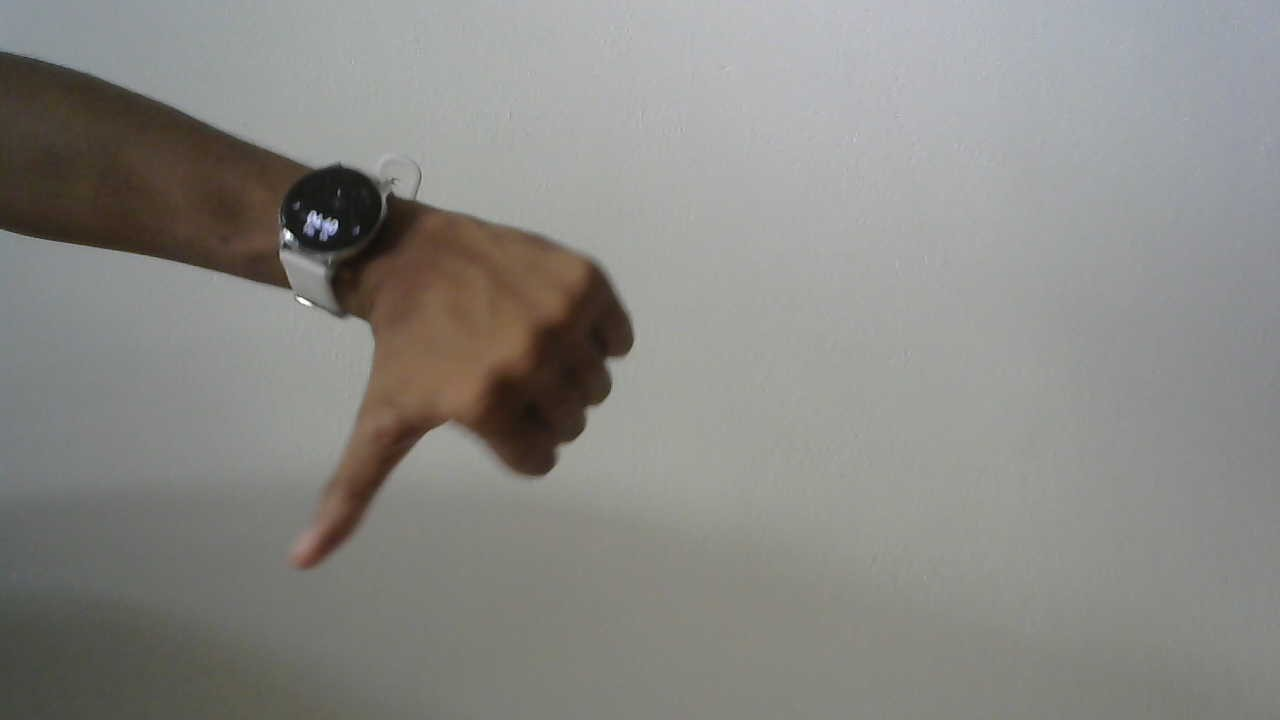thumbsdown: (269, 138, 643, 583)
